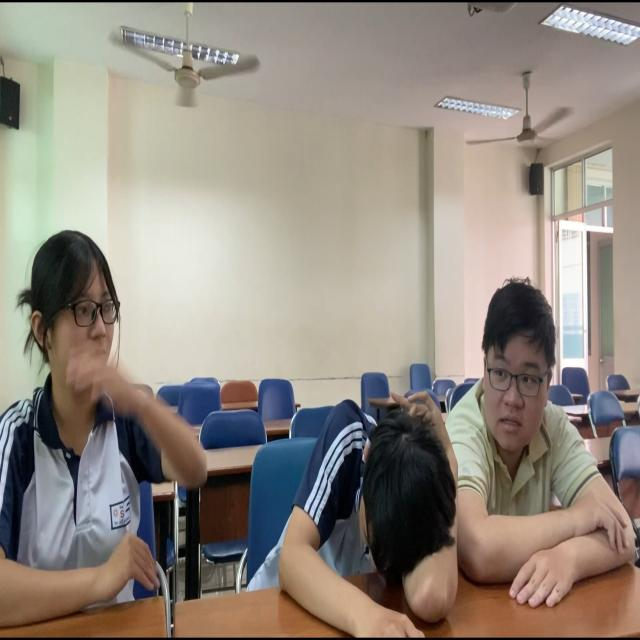sleep: (256, 395, 468, 640)
